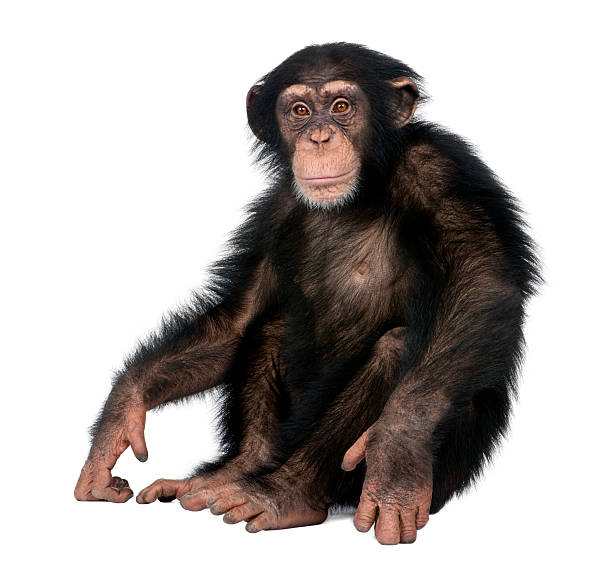chimpanzee: (210, 20, 474, 246)
